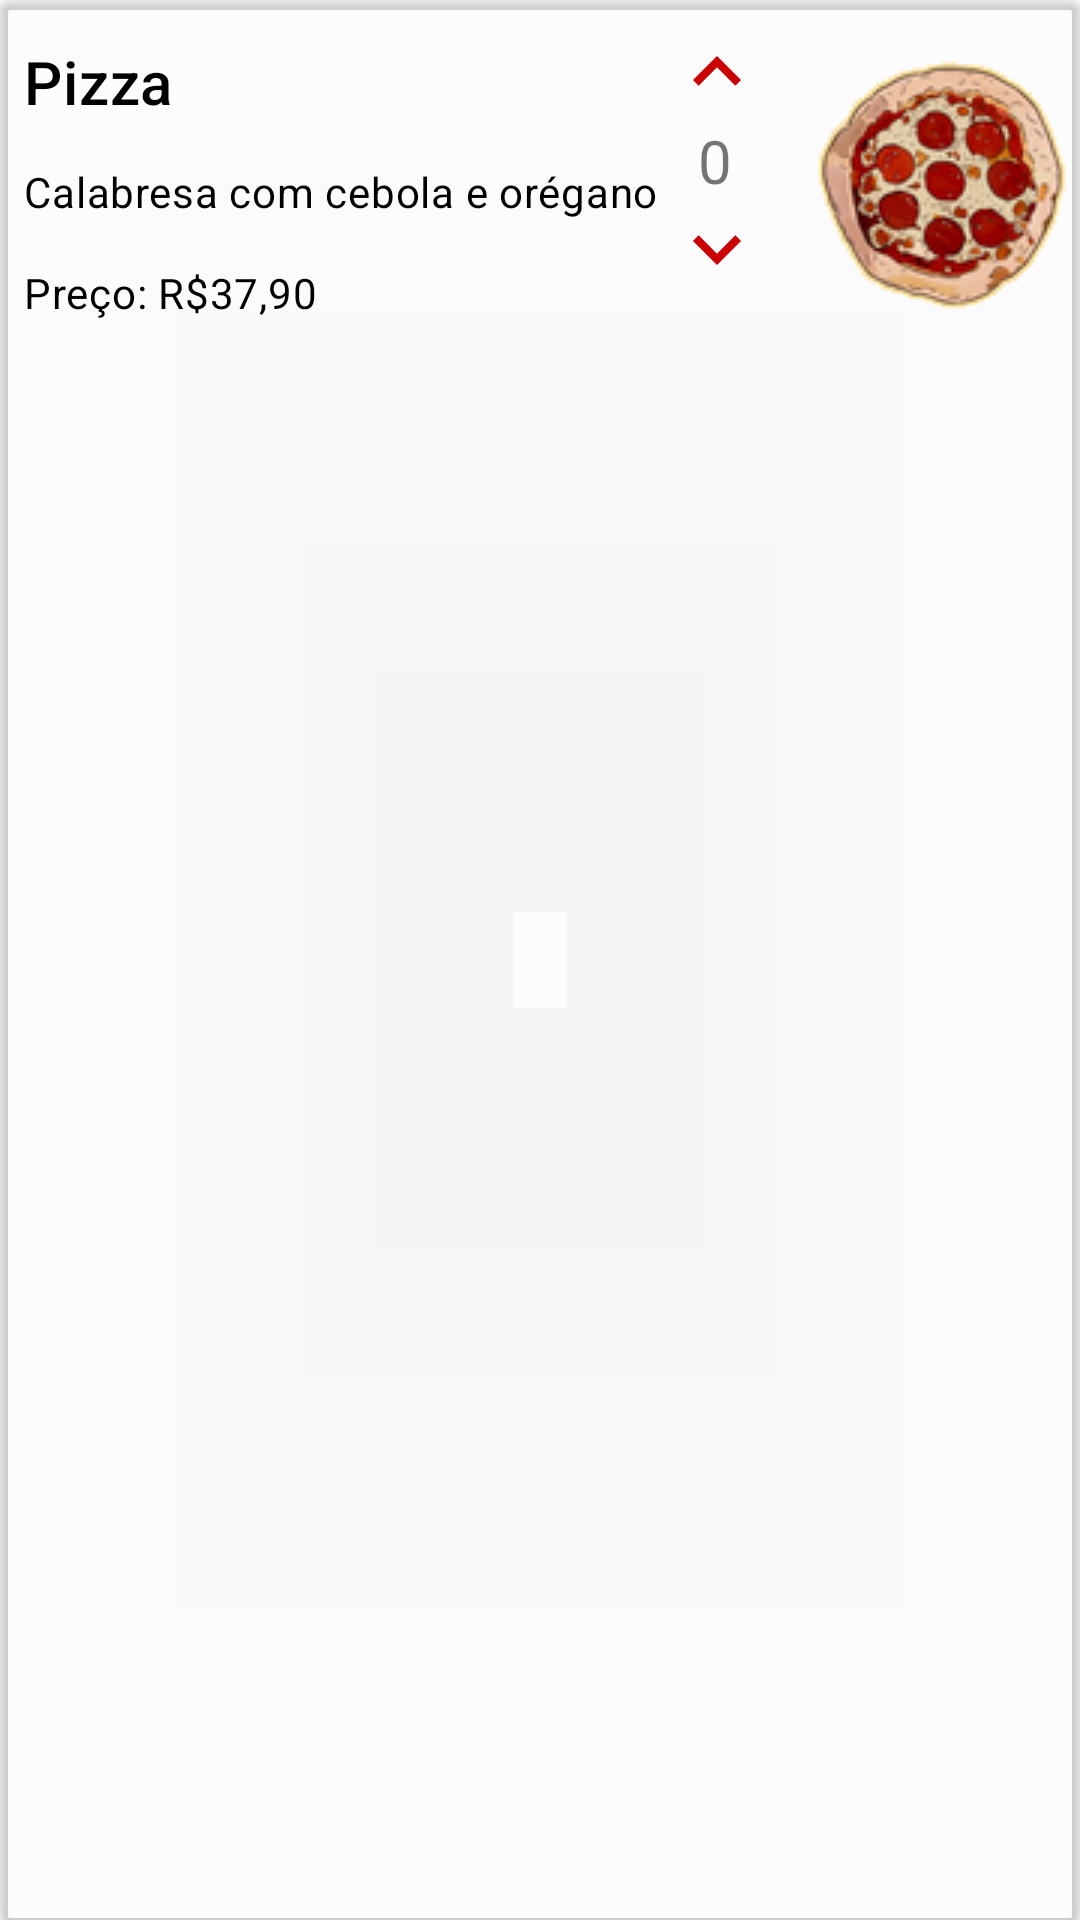

Icon click points for this 1080px×1920px phone screenshot, format [x,y]:
aumenta: [717,71]
diminui: [717,250]
Imagem de um produto da lista: [942,185]
